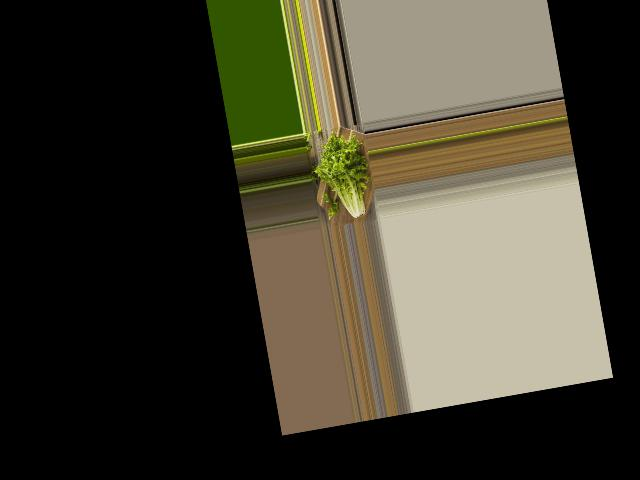lettuce: (310, 131, 377, 227)
